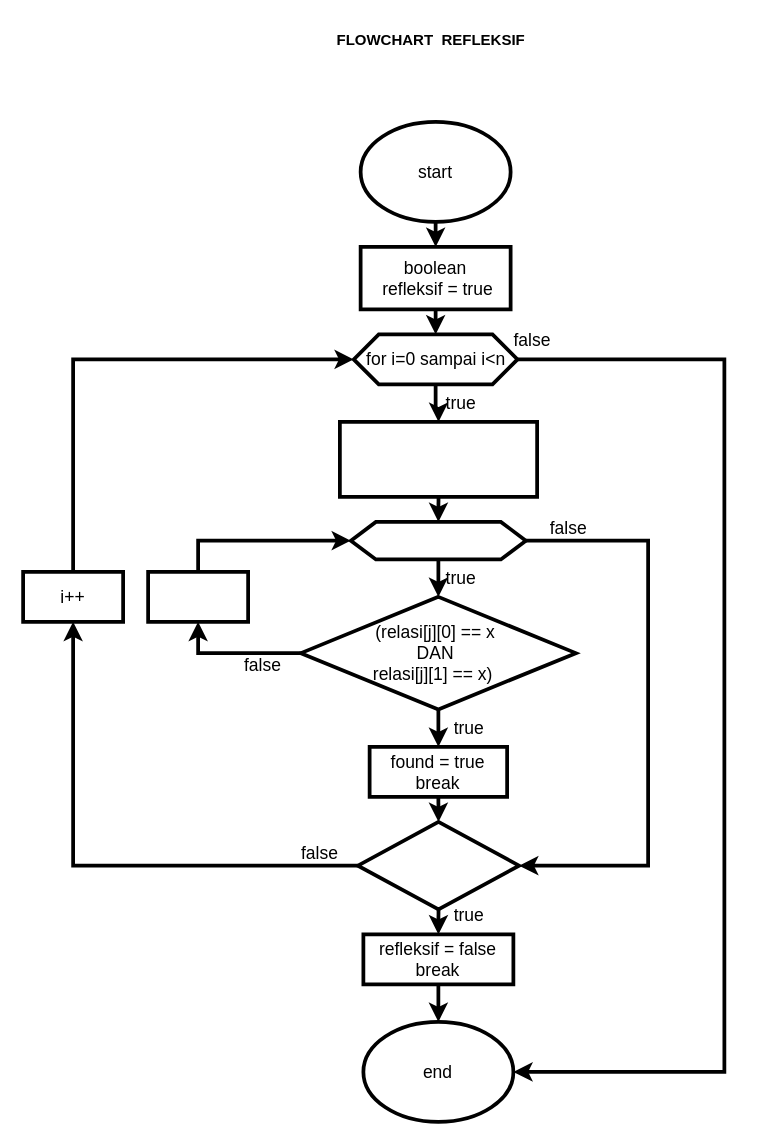
The diagram is 758 pixels wide and 1145 high, and some of its shapes have lost their labels. Here are the shapes that lost their labels. From the top down, the centre of each, then its label:
At pixel 437 458: "int x = himp[i] boolean found = false".
At pixel 437 540: "for j=0 sampai j<m".
At pixel 197 596: "j++".
At pixel 437 865: "found == false".
